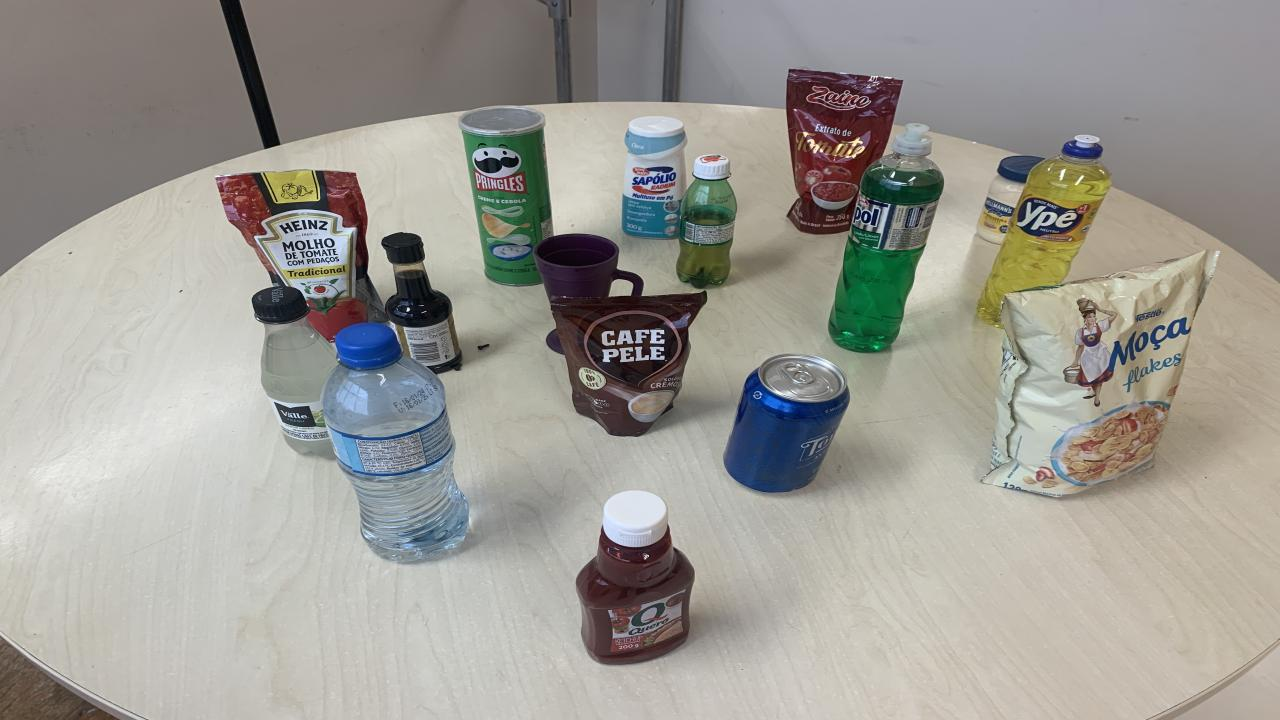Cleaner-Cleanup_Items: (622, 116, 688, 238)
Coffee-Pantry_Items: (550, 291, 708, 437)
Detergent-Cleanup_Items: (830, 124, 945, 352), (978, 135, 1110, 324)
English_Sauce-Pantry_Items: (382, 232, 462, 373)
Flakes-Snacks: (985, 251, 1218, 495)
Guarana-Drinks: (678, 154, 738, 289)
Ketchup-Pantry_Items: (575, 489, 695, 664)
Mayonnaise-Pantry_Items: (978, 156, 1042, 244)
Pringles-Snacks: (460, 107, 552, 285)
Soda-Drinks: (252, 285, 338, 458)
Tomato_Sauce-Pantry_Items: (218, 169, 388, 341), (788, 69, 902, 234)
Tonic-Drinks: (725, 354, 850, 491)
Water_Bottle-Drinks: (322, 324, 468, 562)
